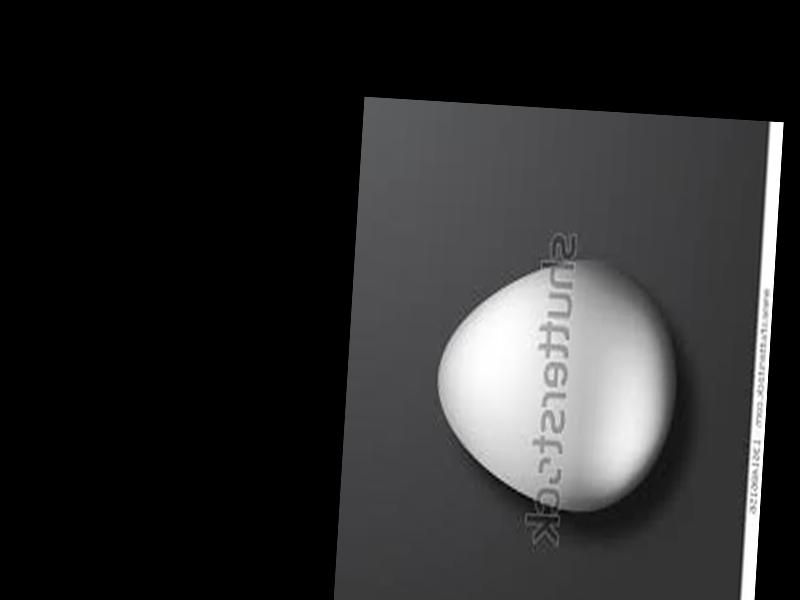Eggs: (428, 251, 681, 516)
